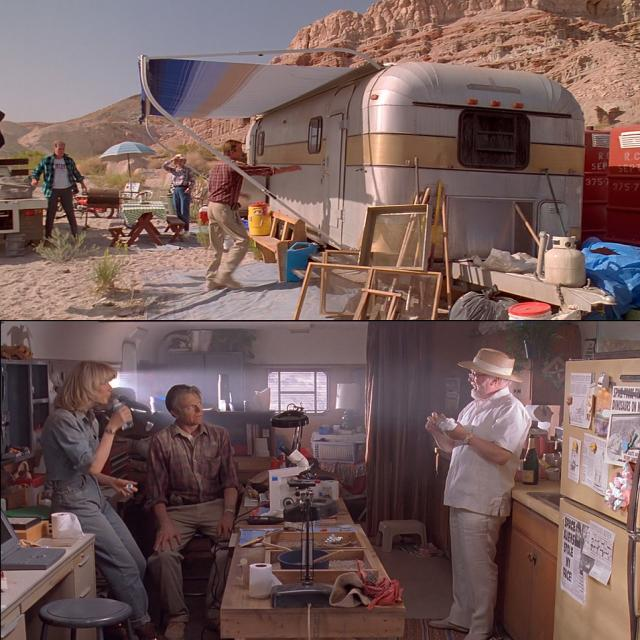chair: (292, 196, 434, 319), (38, 596, 134, 640), (377, 520, 427, 552)
desk: (0, 534, 95, 639)
laptop: (0, 502, 65, 571)
person: (39, 361, 154, 636), (425, 346, 532, 640), (142, 384, 241, 638), (204, 138, 250, 290), (27, 139, 86, 242), (162, 152, 197, 238)
